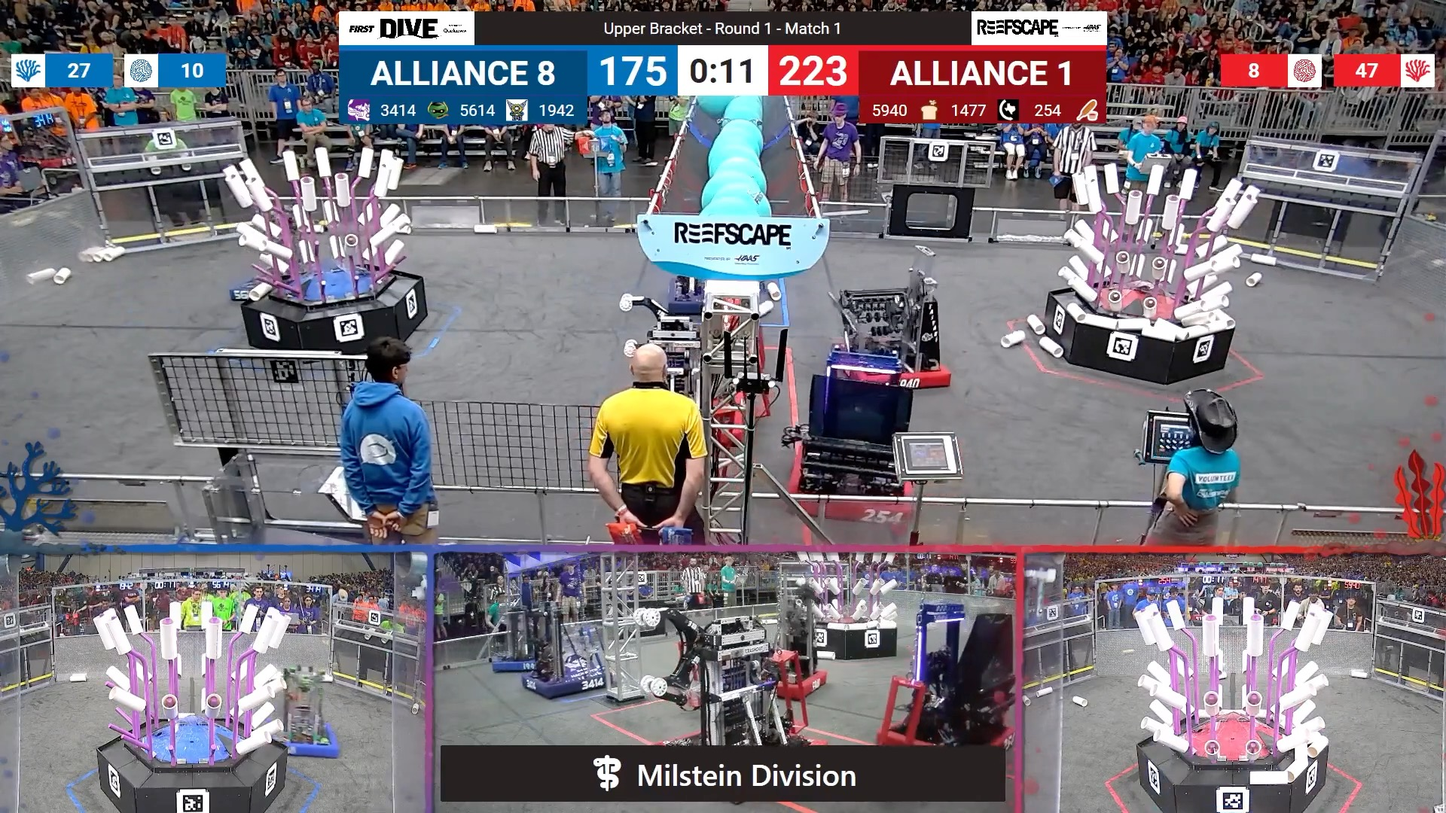bumpers: (782, 436, 924, 526), (830, 337, 961, 392), (511, 666, 612, 701), (269, 720, 344, 764), (766, 665, 833, 698), (493, 654, 550, 676)
